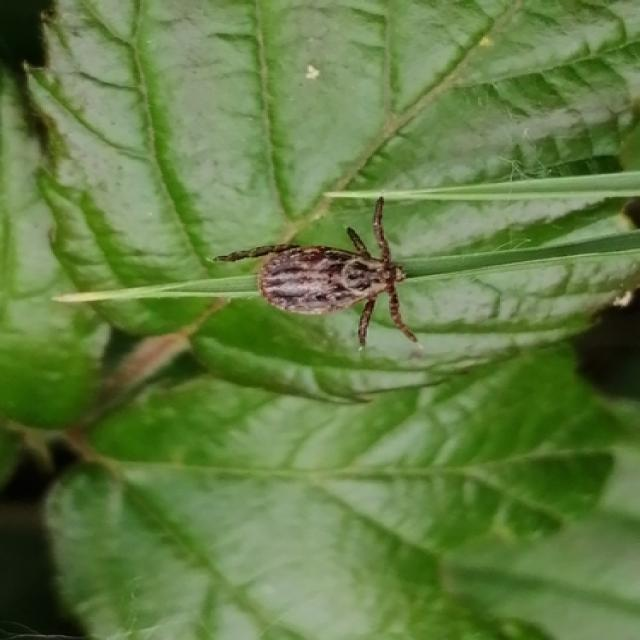Dermacentor Reticulatus-M: (213, 196, 418, 351)
